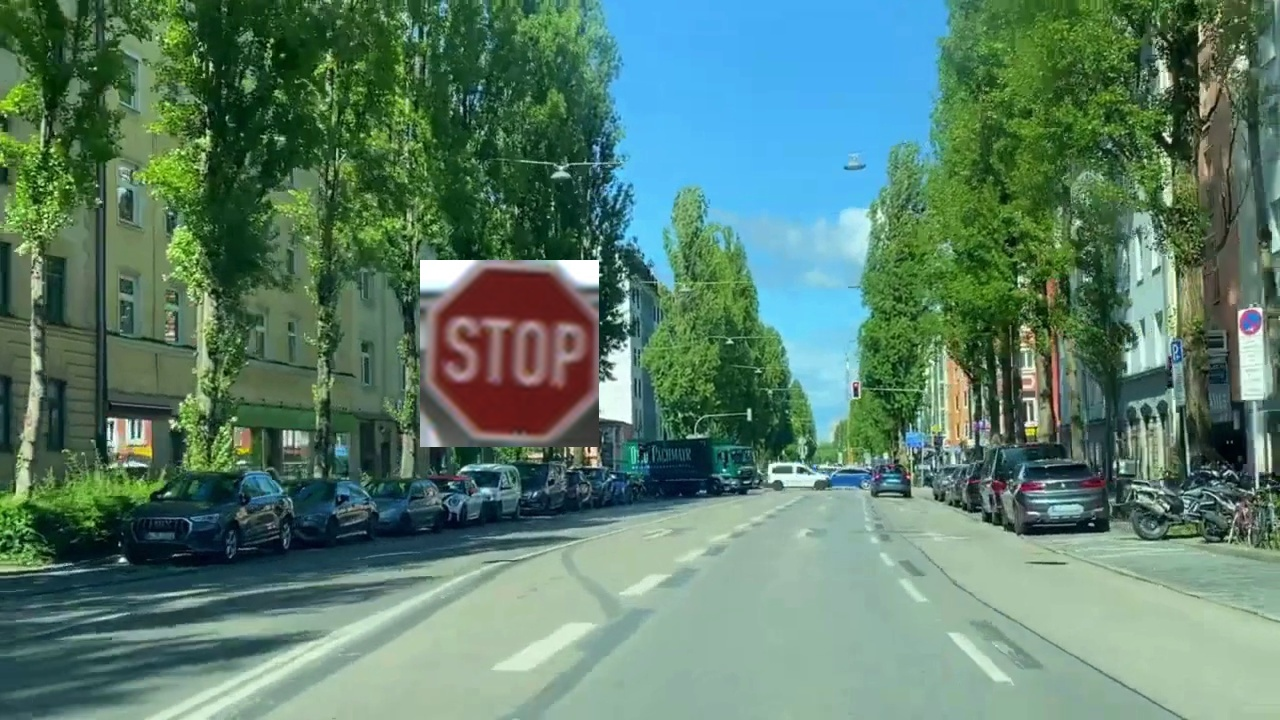Stop: (420, 260, 599, 447)
